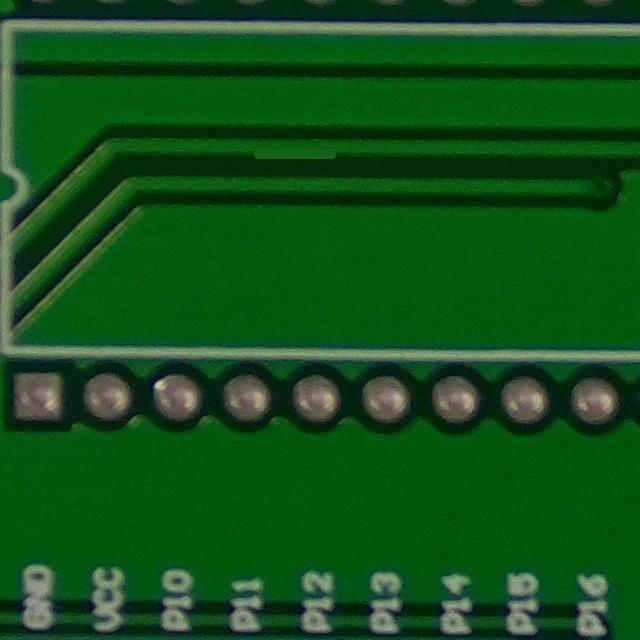spur: (226, 117, 357, 182)
